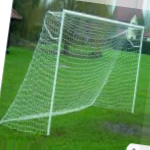goals: (2, 8, 146, 138)
